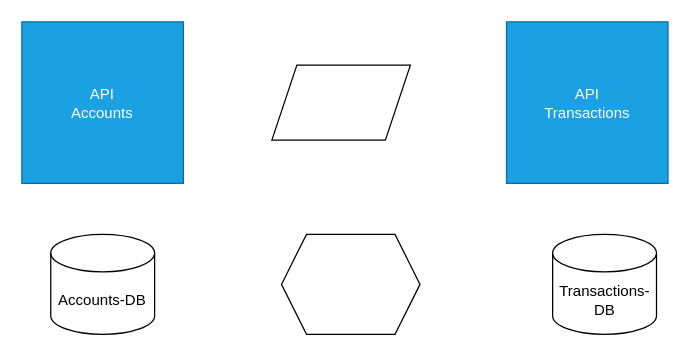
Some shapes in this 690 by 356 pixel diagram are drawn without their labels. The shapes that lost their labels are listed below. From the top down, each one's centre as x and y in pixels, then its label:
At (340,102): "Redis Cache".
At (350,283): "message broker".
